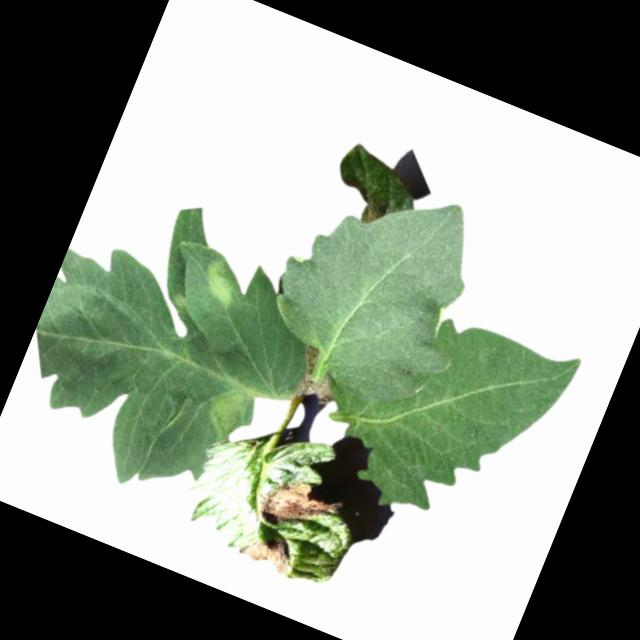Late_blight: (254, 466, 346, 545), (198, 370, 262, 447), (293, 344, 349, 407), (236, 525, 301, 578), (194, 252, 250, 313), (348, 188, 394, 229)
